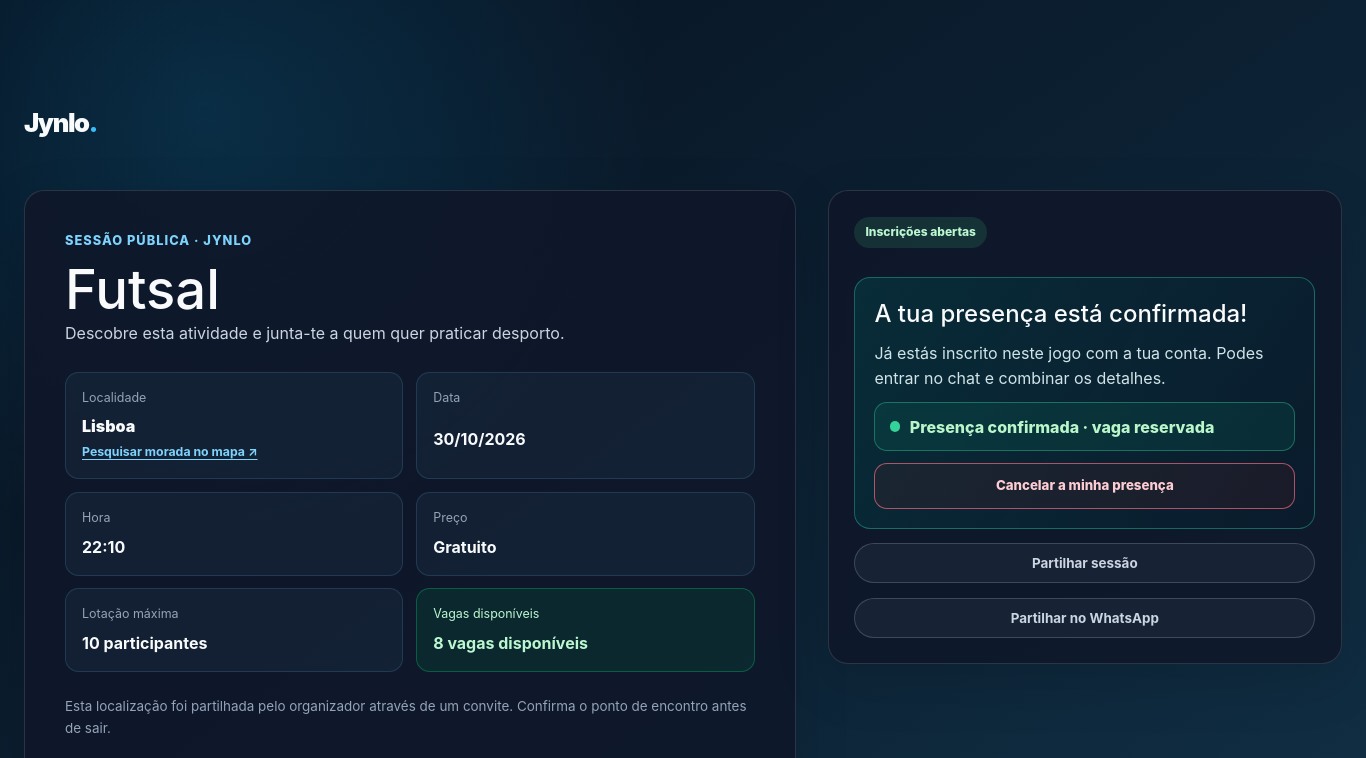
Test: PublicSessionPreviewComponent › shows the real registered presence and cancels only after explicit confirmation
The image size is (1366, 758).
Click the button with class "guest-cancel-link" at coordinates (1085, 486), box [874,463,1295,509]
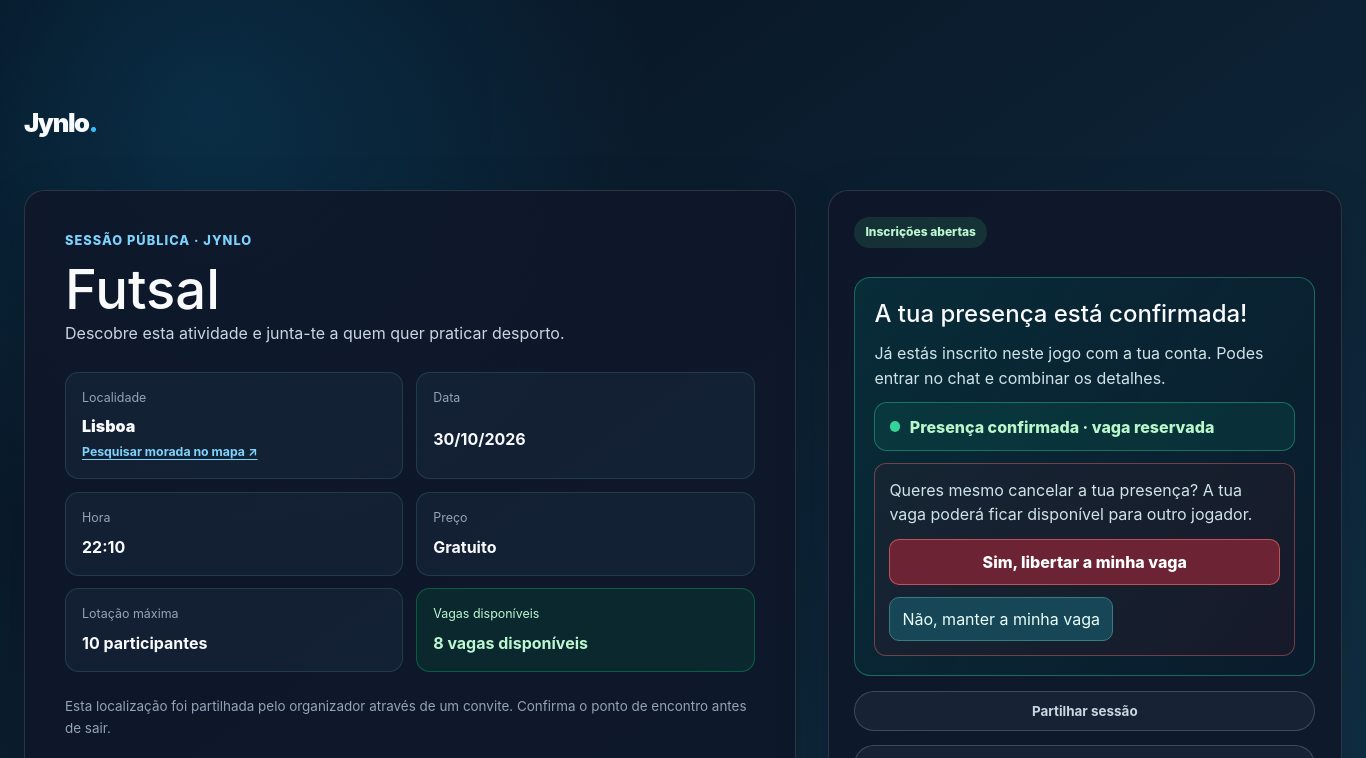
Click the button with class "guest-cancel-danger" at coordinates (1085, 562), box [889,539,1280,585]
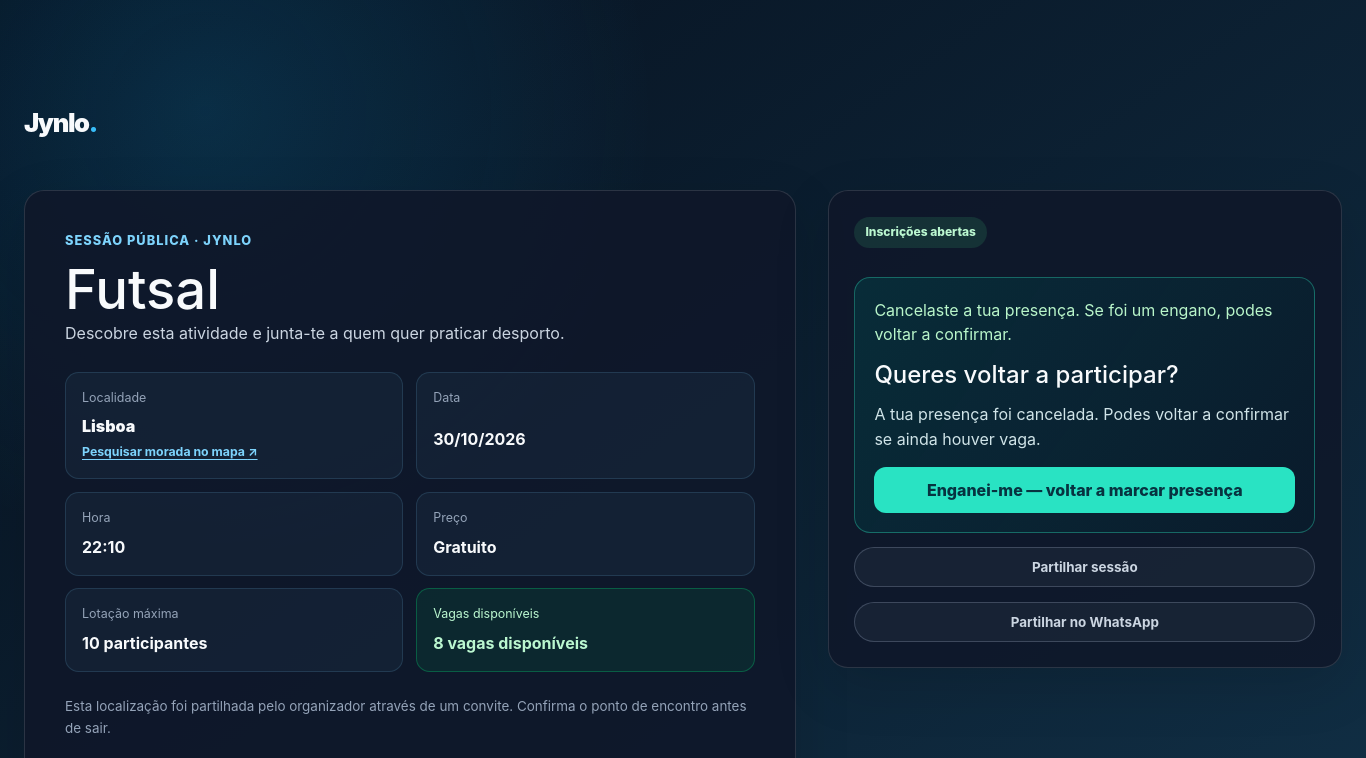
Now the text "Cancelaste a tua presença" is shown, box [874,300,1273,344]
Now the button with class "guest-rsvp-primary" is shown, box [874,467,1295,513]
